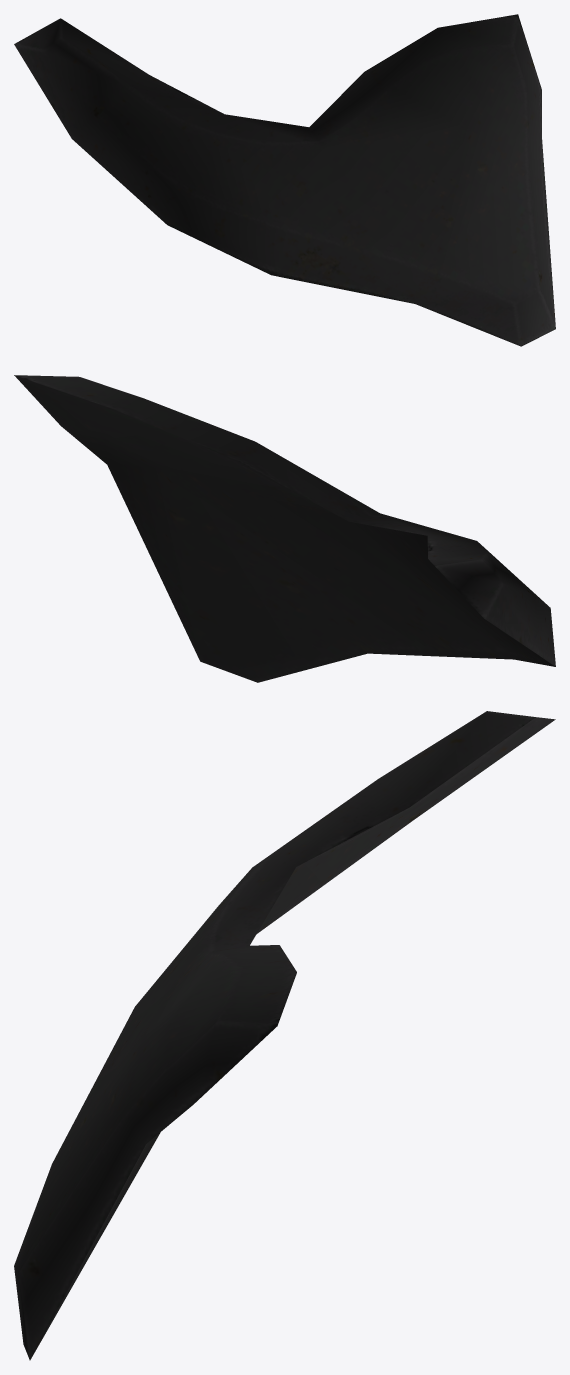
File: armor_back_high_left.dae
3 views of the same model, one above another, from view 1: azimuth 30°, elevation 25°; view 2: azimuth 150°, elevation 25°; view 3: azimuth 270°, elevation 25° (orthographic). The views are drawn at different scales.
Visible parts, largest first — view 1: armor_back_high_left; view 2: armor_back_high_left; view 3: armor_back_high_left.
Boxes of the visible parts, x1,y1,x2,y2 form: armor_back_high_left: (14,14,555,346); armor_back_high_left: (14,375,555,682); armor_back_high_left: (14,711,555,1360).
Bounding box in the file's own units: 0.3811 × 0.2885 × 0.2431.
1 material, 1 textured.
